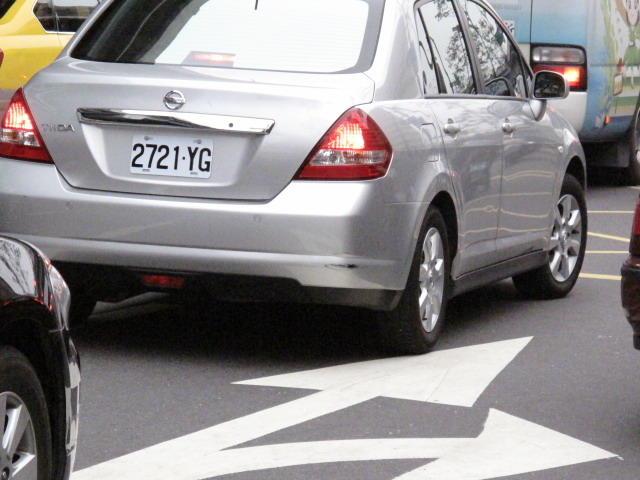plate: (131, 131, 215, 179)
